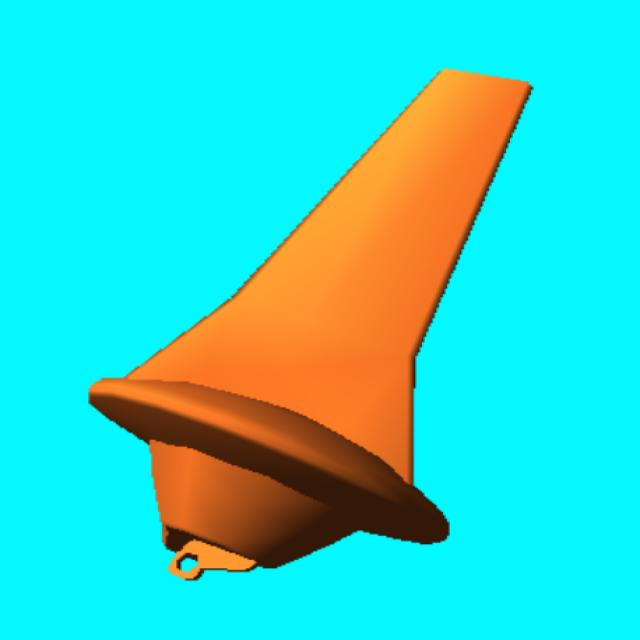OrangeBuoy: (90, 70, 530, 578)
